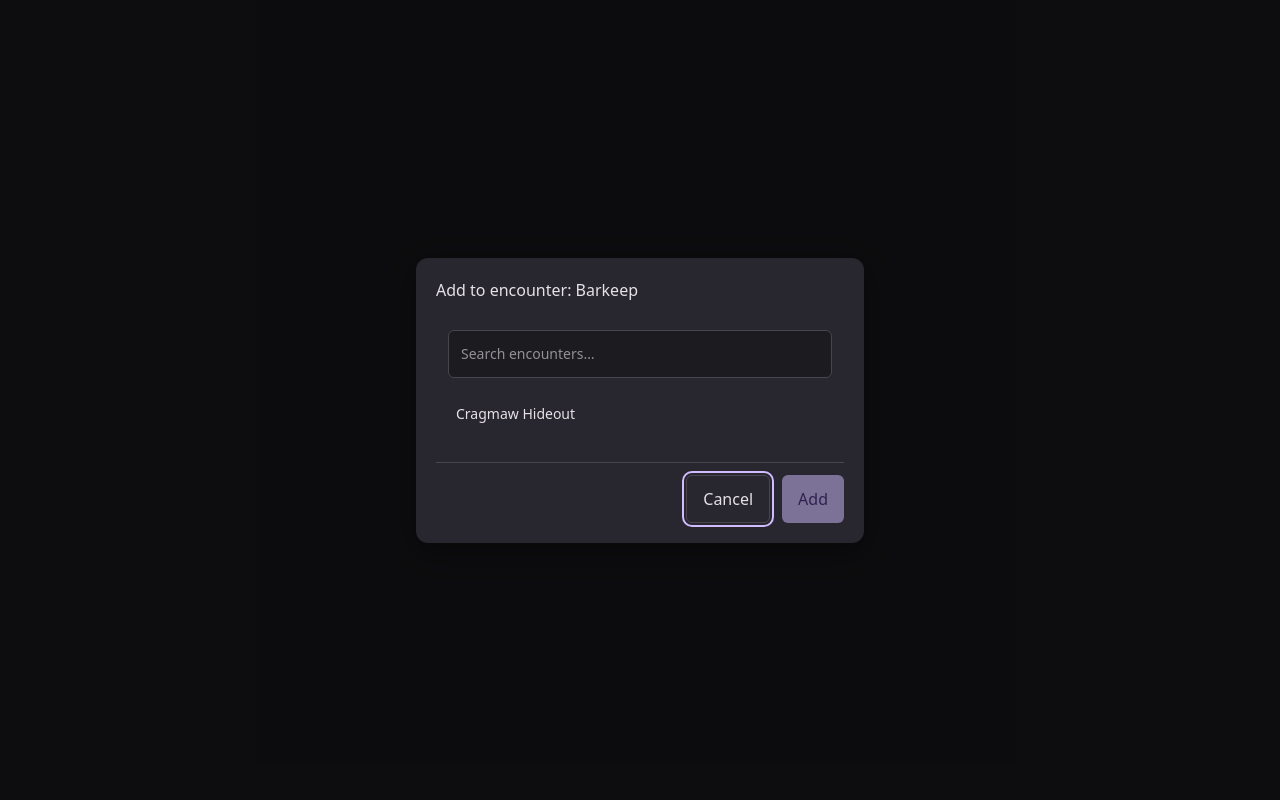
Test case: AddToEncounterDialog › Add is disabled until an encounter is selected
Expected: the text "Cragmaw Hideout" is shown, [456,404,575,424]
Expected: the button "Add" is disabled, [782,474,844,522]
What coordinates should you click on to do the following:
click the button "Cragmaw Hideout"
I would click on:
 (516, 413)
Its box is [444,390,836,438].
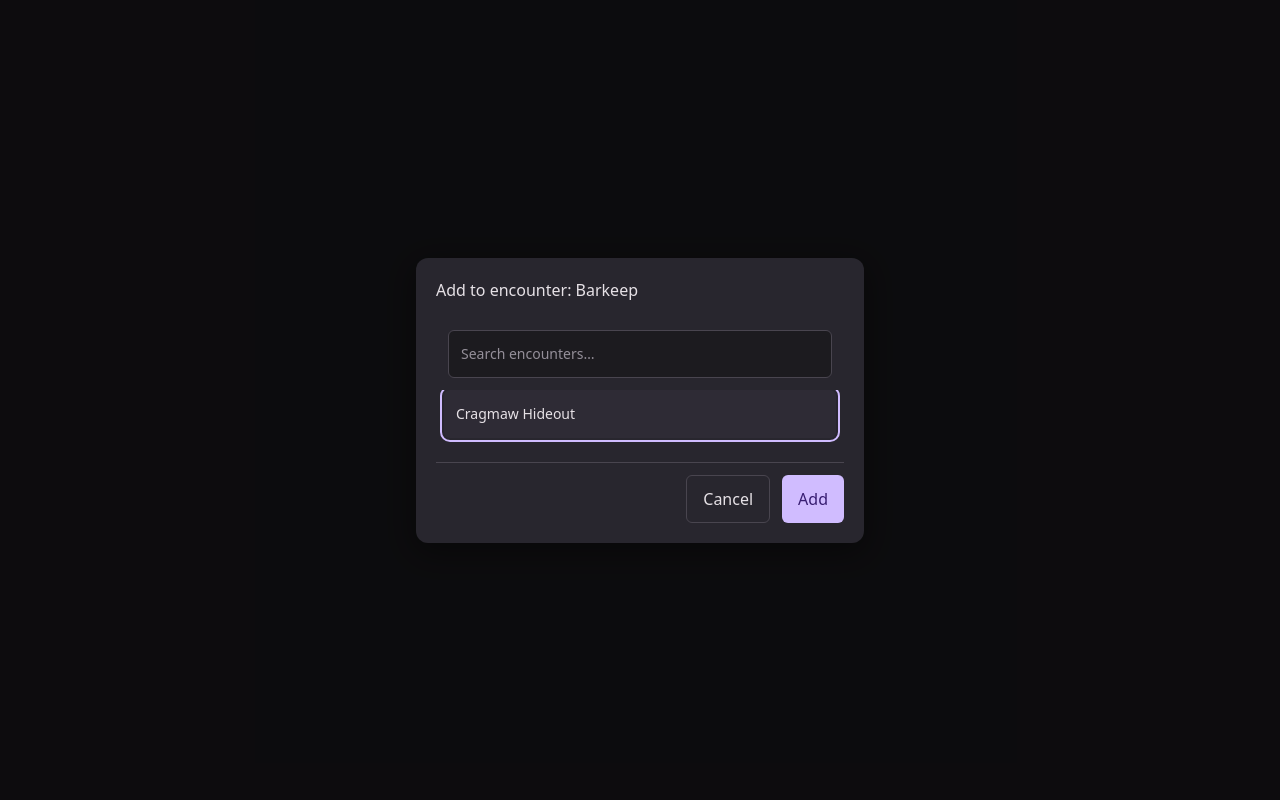
Expected: the button "Add" is enabled, [782,474,844,522]
